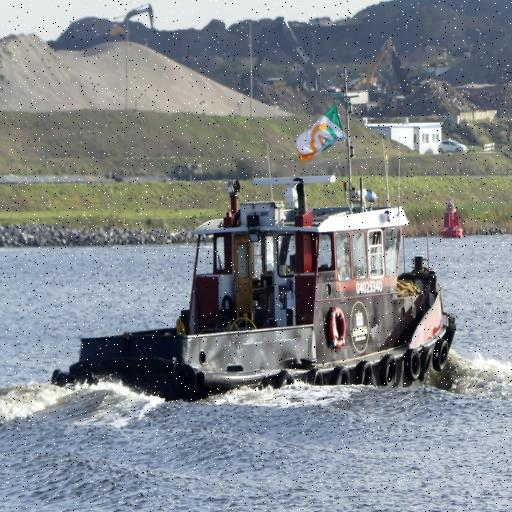tugboat: (45, 64, 462, 420)
